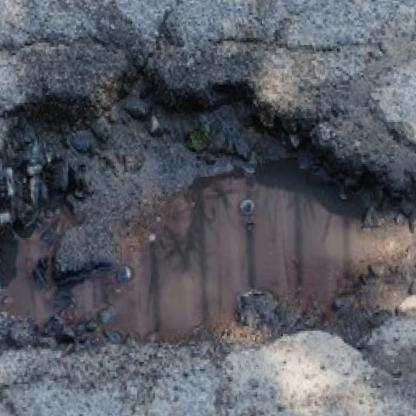pothole: (0, 51, 416, 384)
